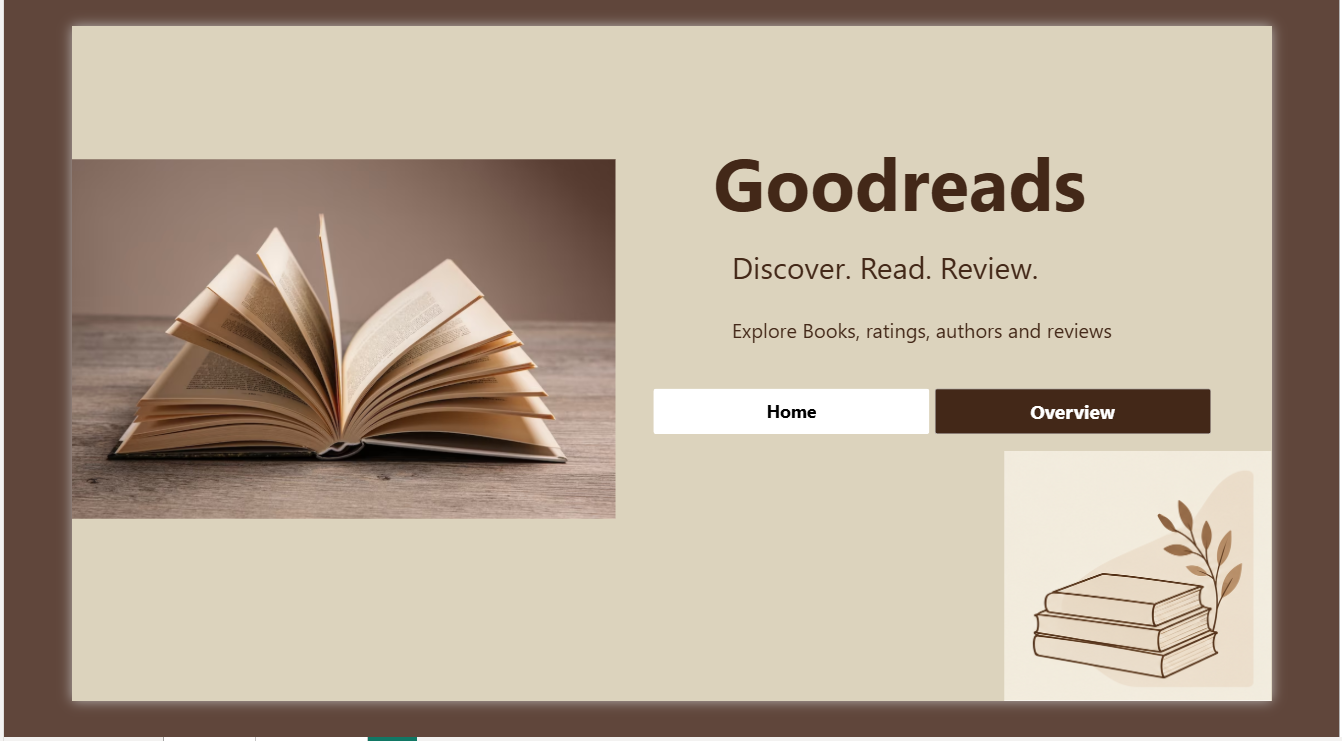

The dashboard page shown, as its layout file describes it:
{"tool":"powerbi","page":{"name":"Home","canvas":[1920,1080],"ordinal":0},"visuals":[{"type":"image","box":[0,82,870,837.5],"z":0},{"type":"textbox","box":[1025.8,171,744.5,181.8],"z":1000},{"type":"pageNavigator","box":[930.2,580.9,893.8,73.6],"z":2000},{"type":"textbox","box":[1056.1,352.8,584.3,95.2],"z":3000},{"type":"textbox","box":[1056.1,463.1,642.8,77.9],"z":4000},{"type":"image","box":[1489.4,680.4,430.7,399.9],"z":6001}]}

Visuals, with their boxes in screenshot pixels (x1, y1, x2, y2), scaled from the page's 1920x1080 canvas onto the 1342x741 screenshot:
image: left=0, top=56, right=608, bottom=631
textbox: left=717, top=117, right=1237, bottom=242
pageNavigator: left=650, top=399, right=1275, bottom=449
textbox: left=738, top=242, right=1147, bottom=307
textbox: left=738, top=318, right=1187, bottom=371
image: left=1041, top=467, right=1341, bottom=740
